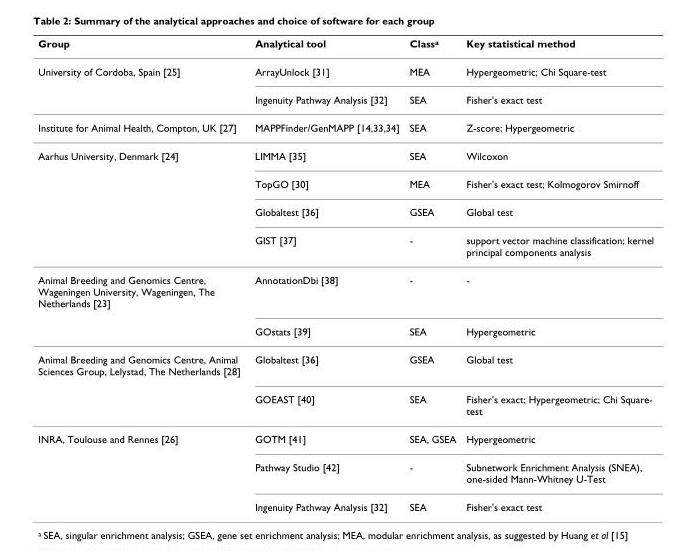table: (37, 36, 653, 512)
table column: (37, 36, 246, 512), (460, 36, 653, 512), (246, 36, 403, 512), (403, 36, 460, 512)
table column header: (37, 36, 653, 57)
table row: (37, 265, 653, 316), (37, 225, 653, 265), (37, 344, 653, 384), (37, 384, 653, 424), (37, 452, 653, 492), (37, 57, 653, 85), (37, 85, 653, 113), (37, 113, 653, 141), (37, 141, 653, 169), (37, 169, 653, 197), (37, 197, 653, 225), (37, 316, 653, 344), (37, 424, 653, 452), (37, 36, 653, 57), (37, 492, 653, 512)
table spanning cell: (37, 141, 246, 265), (37, 424, 246, 512), (37, 344, 246, 424), (37, 265, 246, 344), (37, 57, 246, 113)
